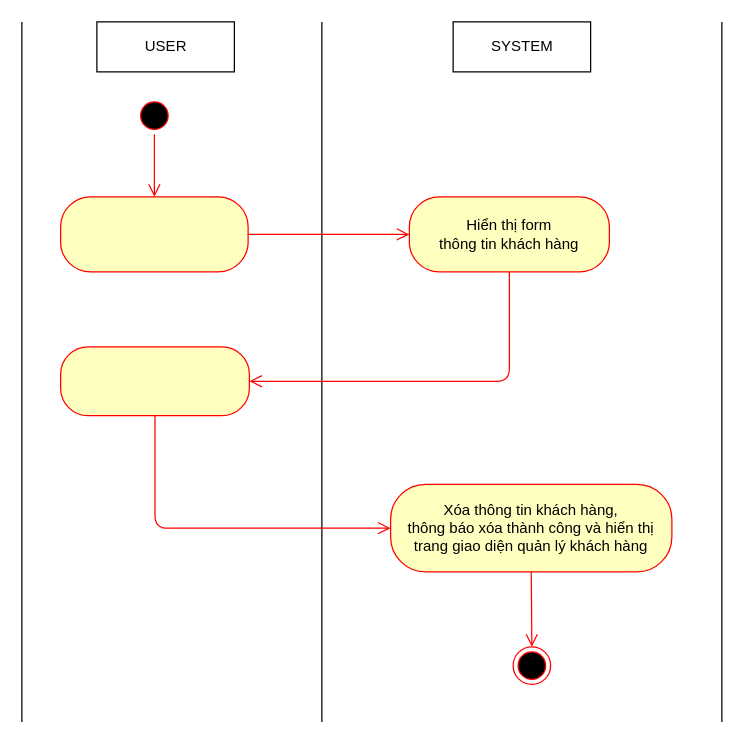
This 745x745 diagram has some shape labels left out. The shapes that lost their labels are listed below. From the top down, each one's centre as x and y in pixels, then its label:
At point (153, 234): "Nhấn vào ID của khách hàng cần xóa".
At point (154, 381): "Chọn Xóa".
